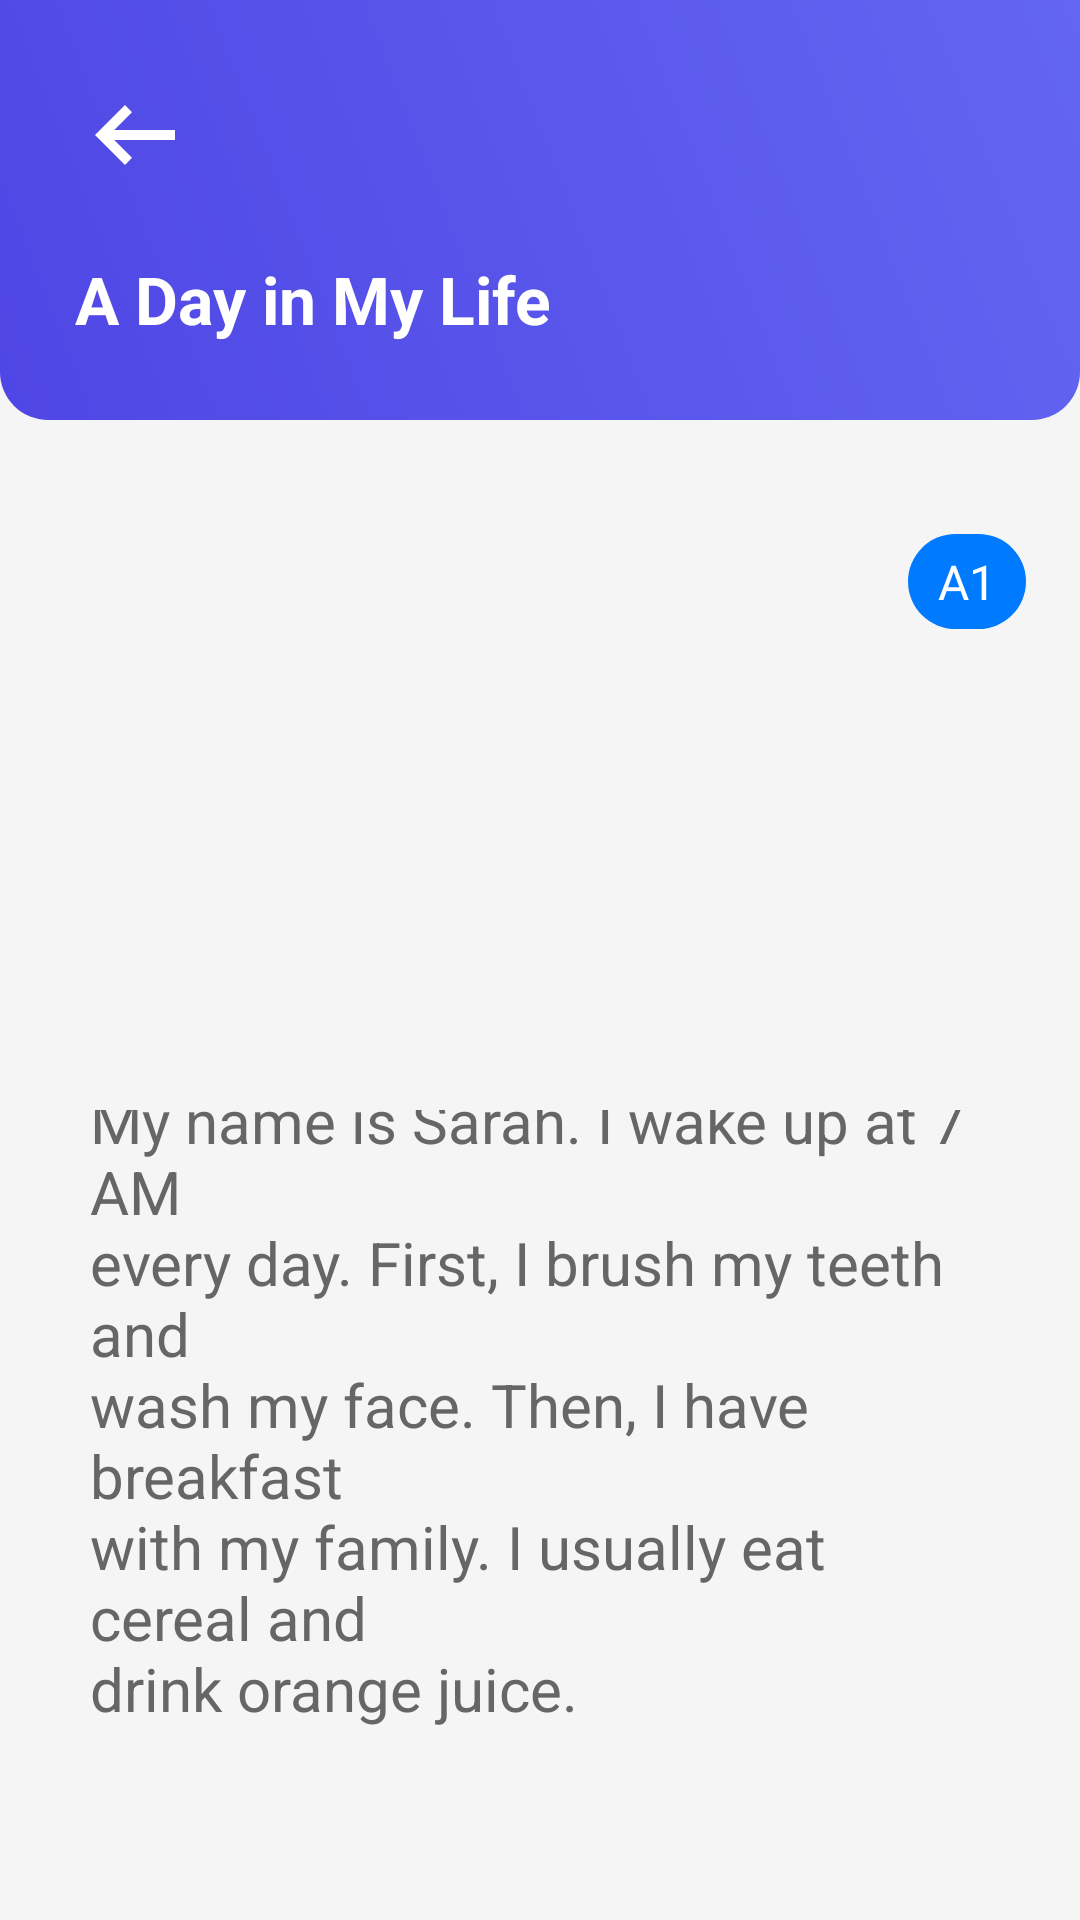

Screen size 1080px x 1920px. Icon name, then its box in pixels as (x1, y1, x2, y2):
arrow left: (95, 105, 175, 165)
